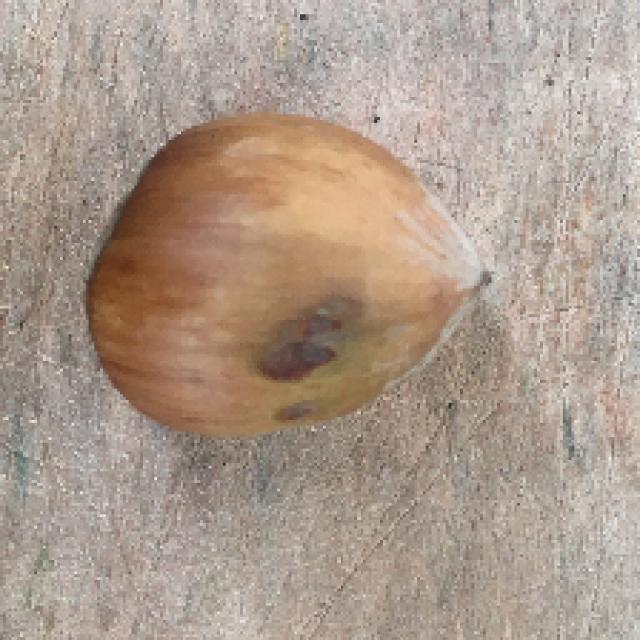DamagedHazelnut: (81, 109, 490, 439)
